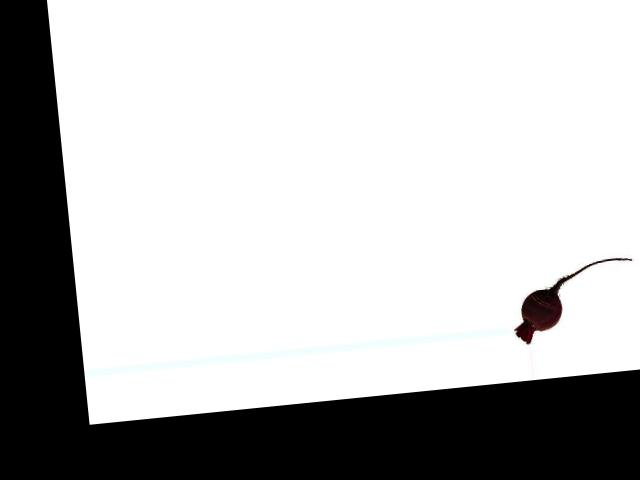beet: (509, 256, 640, 345)
